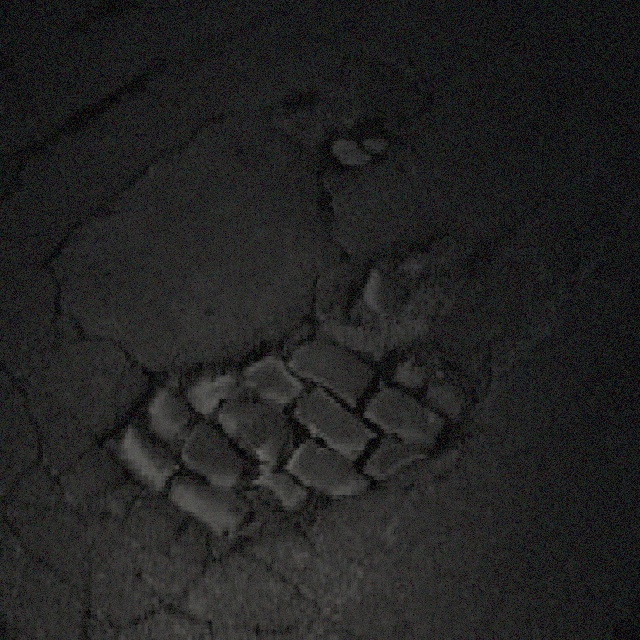pothole: (98, 328, 478, 552), (337, 226, 469, 346), (324, 115, 392, 171)
